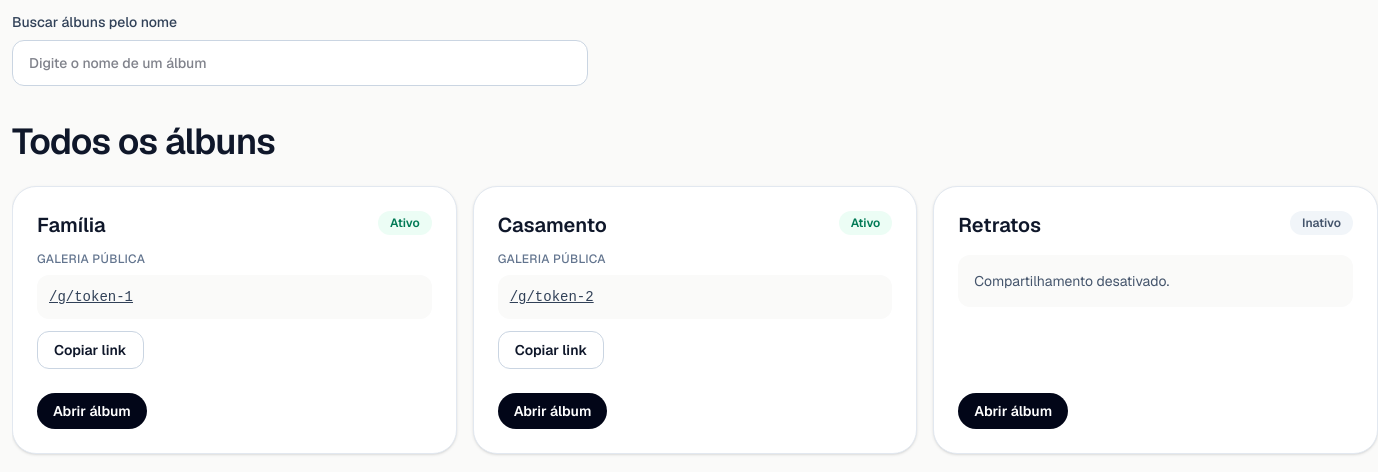
Test: album search › shows an informative state when the search has no results
The width and height of the screenshot is (1378, 472).
Type "inexistente" into the search field at (300, 63), box [12, 40, 588, 86]
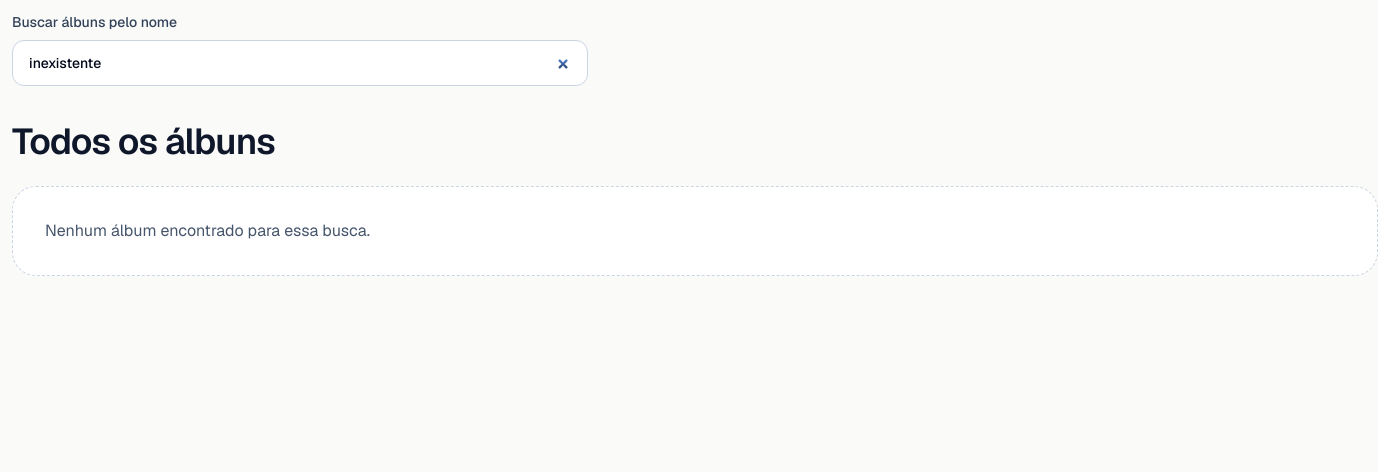
Expected: the message shows "Nenhum álbum encontrado", [45, 220, 370, 241]
